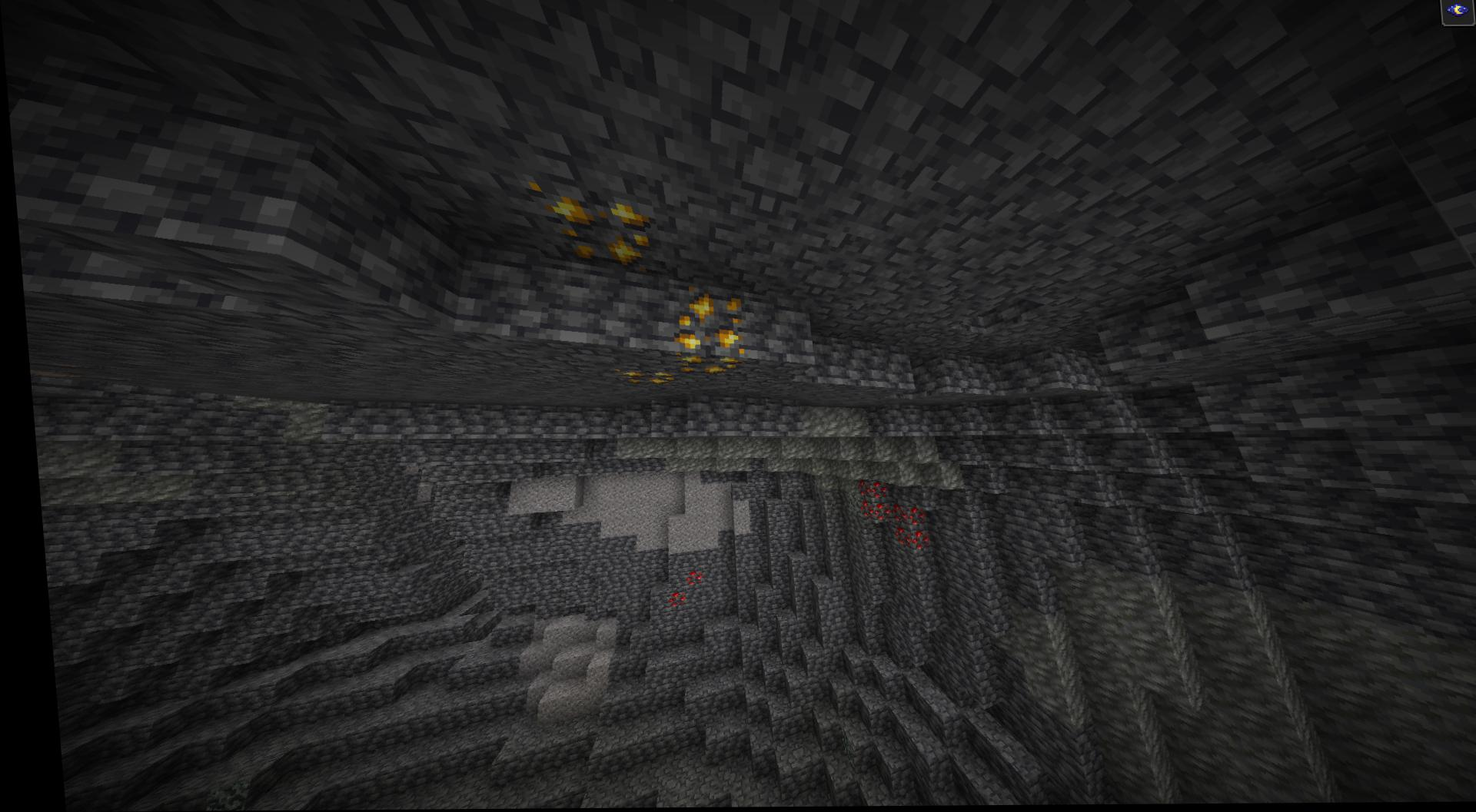gold ore: (529, 182, 660, 277), (660, 282, 740, 358), (616, 367, 671, 393)
redstone ore: (847, 477, 883, 528), (885, 507, 921, 551), (675, 569, 697, 588), (658, 592, 678, 610)
